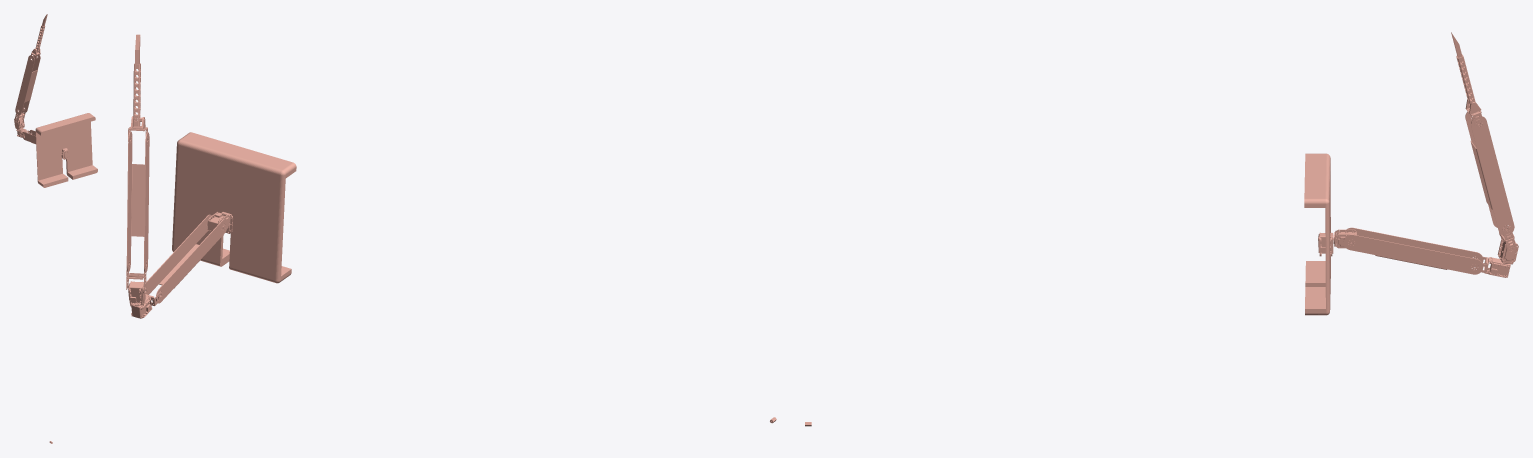
File: Main Manipulator Structure with Knife Tool (1).glb
3 views of the same model, side by side, from view 1: azimuth 30°, elevation 25°; view 2: azimuth 150°, elevation 25°; view 3: azimuth 270°, elevation 25° (orthographic). The views are drawn at different scales.
Size of the model in its own units: 946 by 1436 by 1701.
